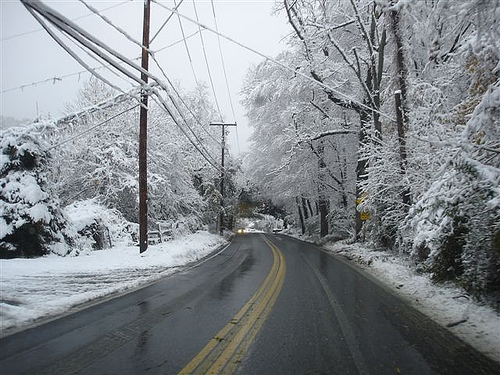pole: (136, 0, 155, 253), (217, 121, 233, 233)
